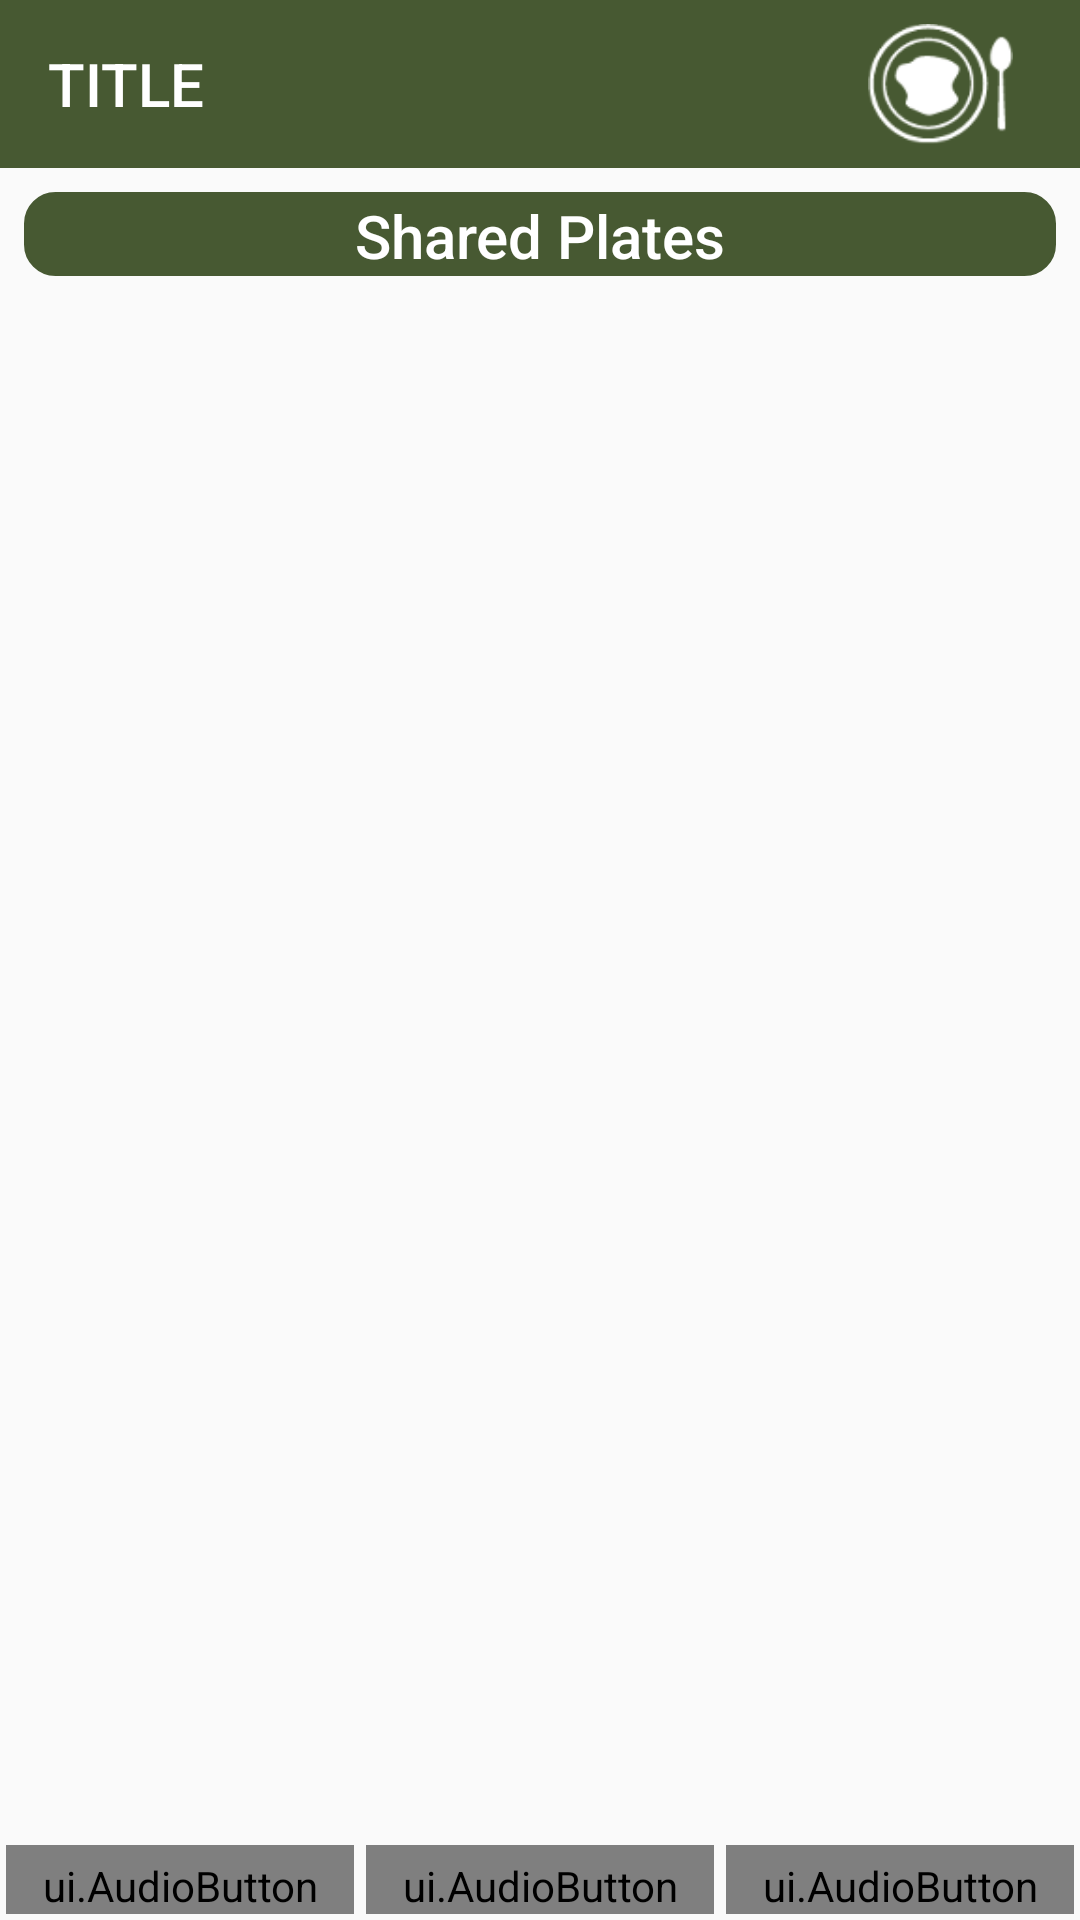

Locate icon controls on the screen. Image size 1080 x 1920, boxes as rect(x1, y1, x2, y2).
eat: rect(868, 24, 1013, 143)
